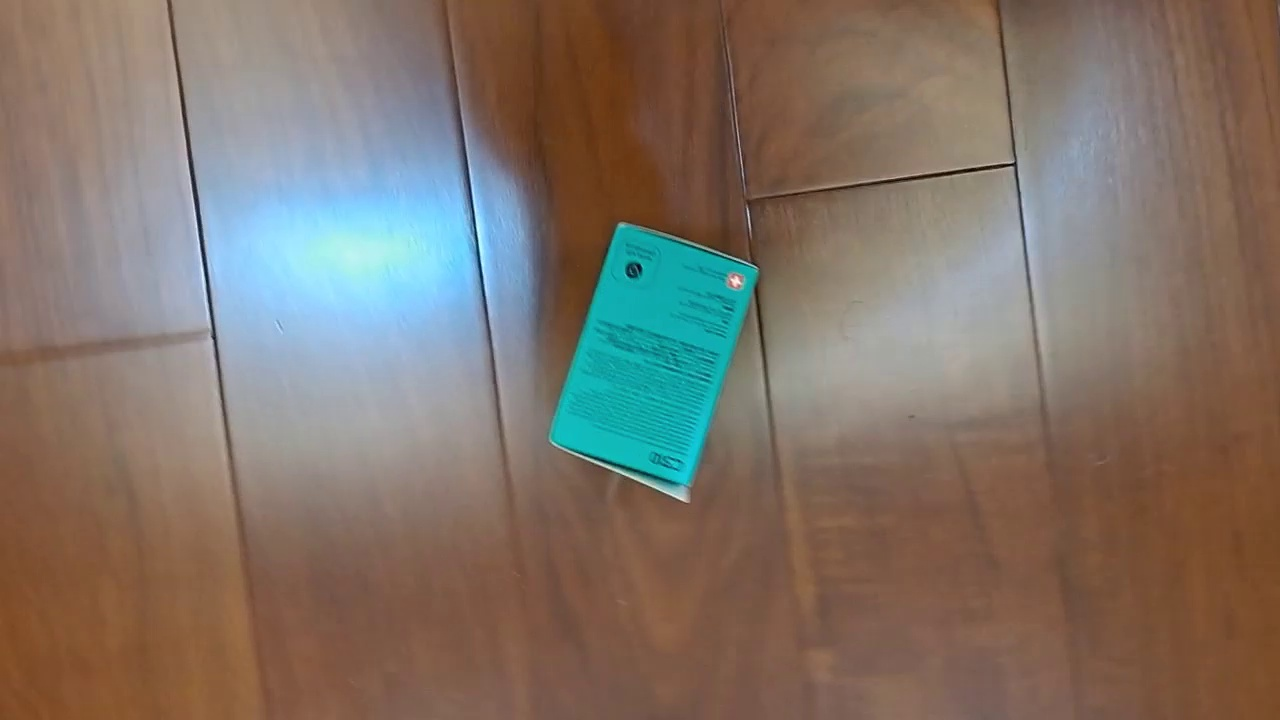webcam: (546, 219, 761, 504)
